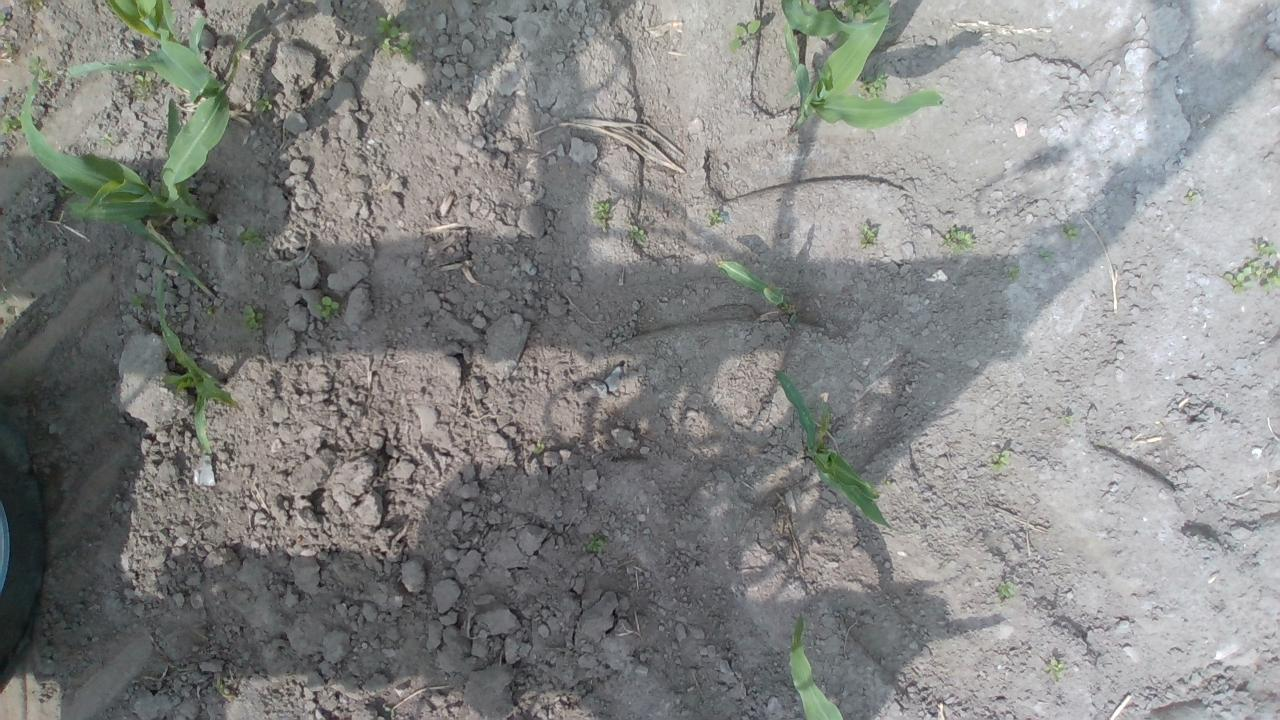Maize: (21, 26, 268, 296), (772, 366, 924, 536), (785, 0, 944, 130), (152, 269, 240, 456), (64, 0, 222, 98), (789, 611, 846, 720), (777, 0, 902, 39), (714, 257, 788, 310)
Weeds: (1226, 241, 1280, 293), (372, 12, 418, 64), (836, 0, 886, 24), (729, 19, 760, 52), (942, 226, 975, 255), (237, 225, 270, 253), (175, 209, 204, 238), (860, 70, 887, 101), (240, 304, 266, 335), (311, 296, 340, 320), (25, 54, 49, 82), (130, 74, 154, 101), (1043, 658, 1067, 681), (0, 114, 23, 136), (859, 224, 879, 249), (254, 90, 274, 114), (592, 200, 613, 221), (992, 450, 1012, 471), (1063, 222, 1081, 242), (588, 534, 606, 554), (998, 580, 1016, 598), (630, 224, 646, 244), (128, 292, 146, 309), (707, 208, 723, 226), (1038, 247, 1053, 263), (1004, 266, 1020, 280), (1184, 188, 1197, 204), (100, 132, 113, 147), (881, 474, 893, 489), (0, 289, 10, 306), (533, 440, 544, 454), (216, 678, 225, 694), (4, 42, 14, 56), (1064, 414, 1076, 424), (0, 12, 8, 26), (31, 116, 38, 127)
